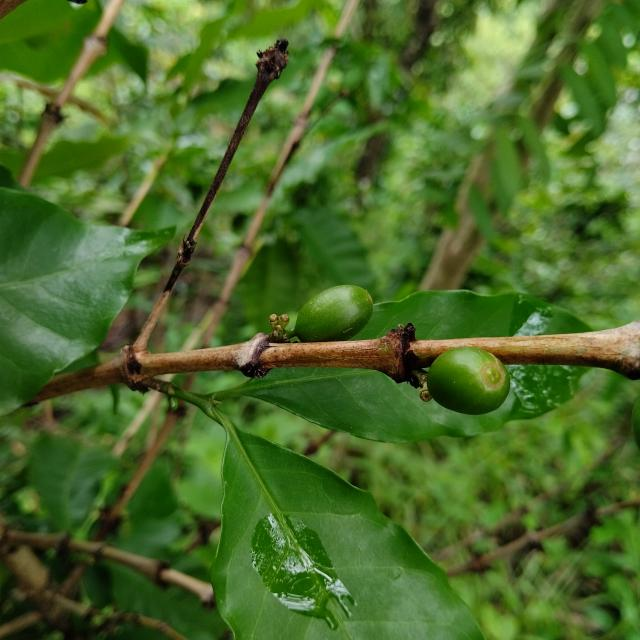green: (427, 347, 511, 415), (295, 285, 373, 342)
